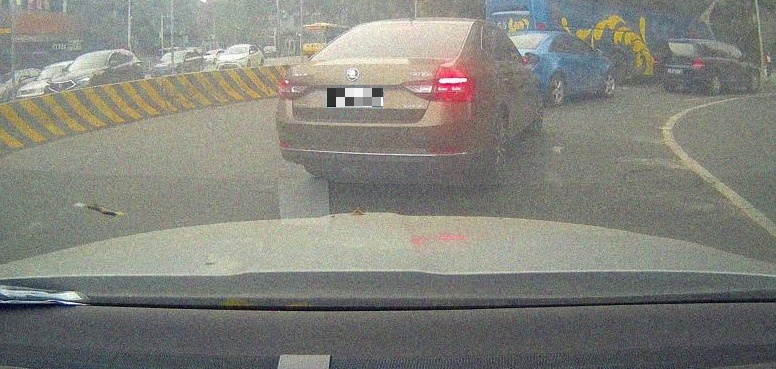L_light: (277, 77, 308, 100), (652, 55, 661, 64)
R_light: (433, 70, 471, 99), (694, 58, 705, 68)
T_light: (399, 23, 423, 28), (672, 43, 683, 45)
day-no: (652, 39, 706, 95)
day-right: (275, 17, 475, 184)
plate_1: (327, 88, 383, 107)
